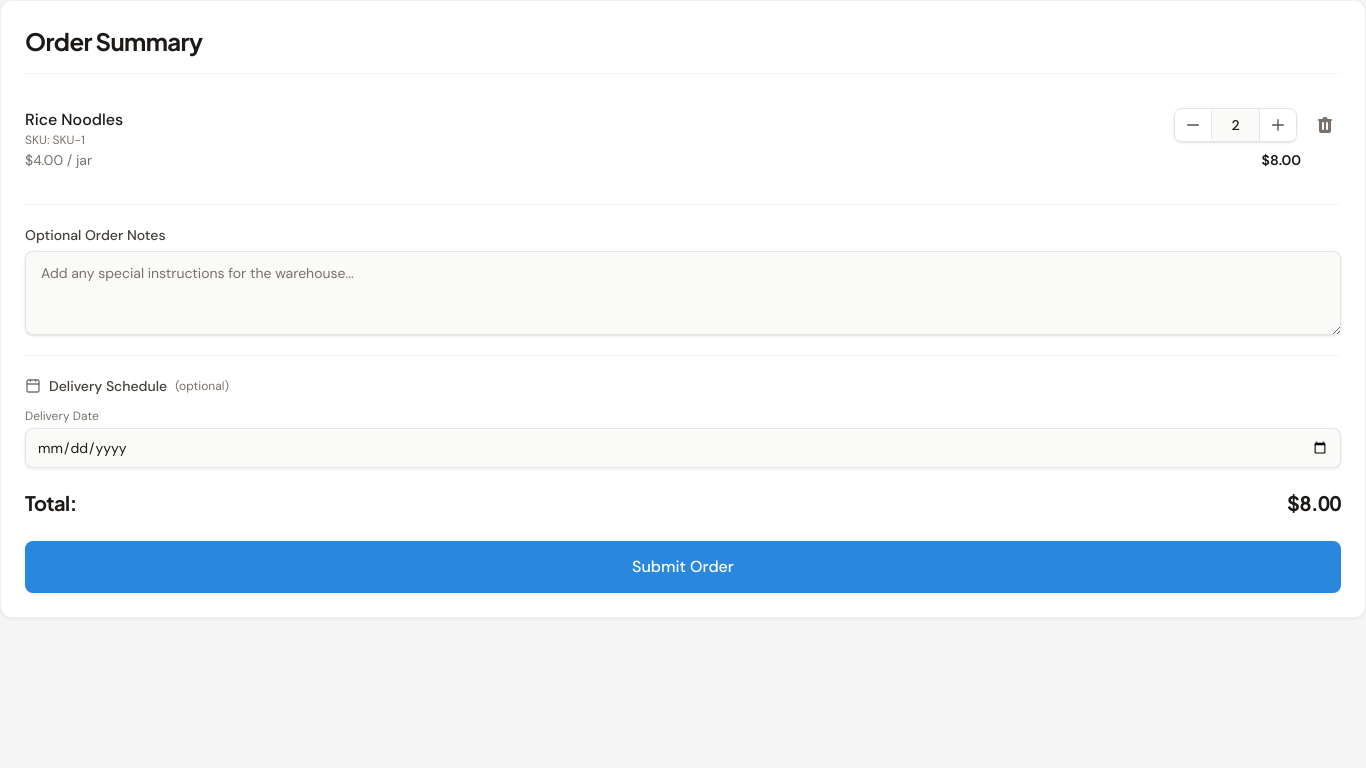
Test case: OrderSummary — Submit for a kitchen (QR Staff) › judges a carton line in base units
Click the button "Submit Order".
click(683, 567)  # box [25,541,1341,593]
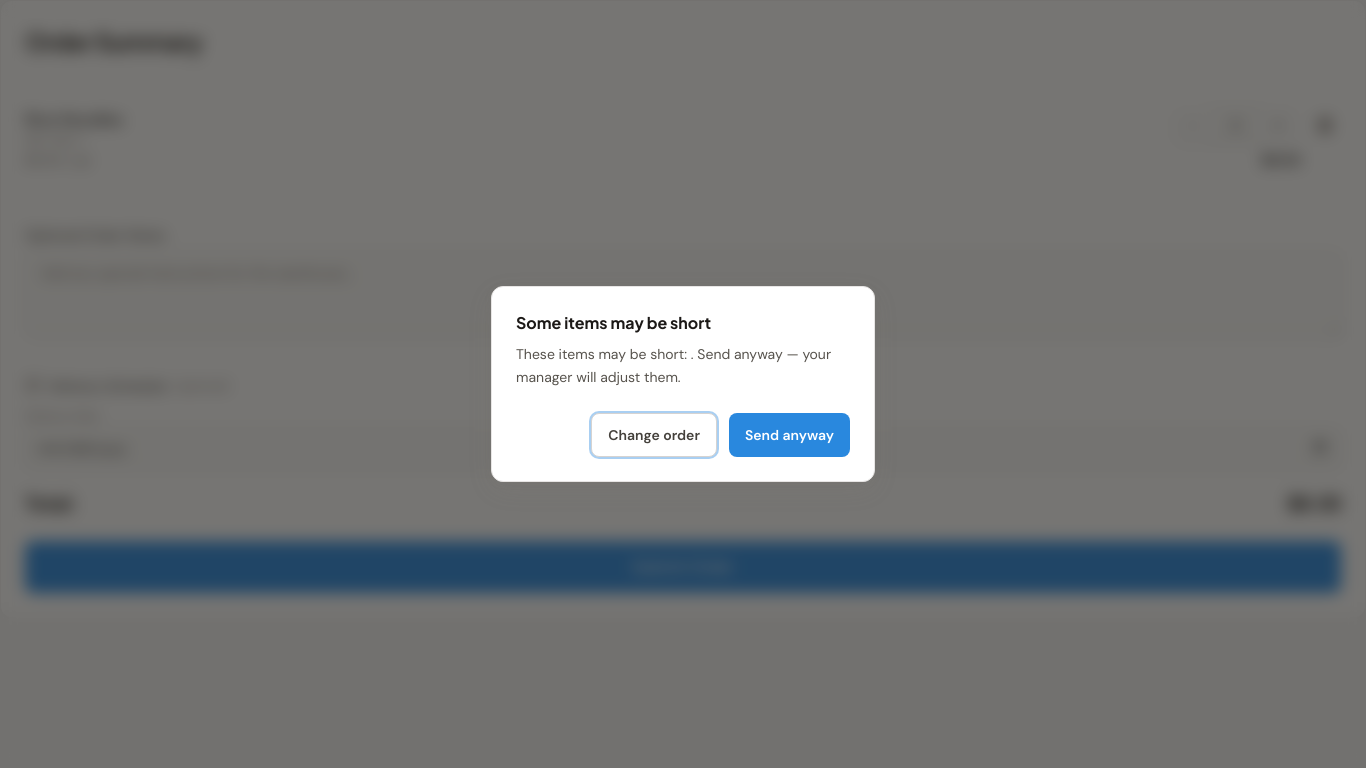
Check: the dialog is shown, box [491,286,875,482]
